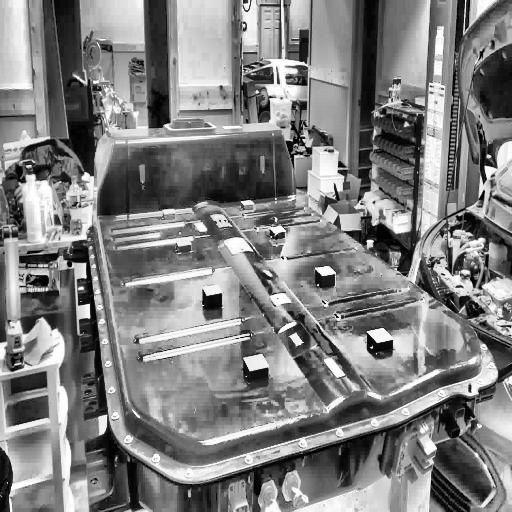b_casing: (85, 115, 501, 484)
nut: (369, 415, 380, 431), (183, 467, 195, 480), (151, 450, 161, 465), (298, 437, 308, 452), (110, 409, 120, 423), (107, 383, 117, 396), (244, 453, 254, 466), (401, 406, 411, 419), (124, 434, 134, 446), (476, 375, 486, 387), (438, 387, 446, 401), (481, 340, 489, 354), (488, 359, 497, 371), (336, 426, 344, 438), (104, 358, 112, 368), (95, 287, 102, 298), (97, 302, 103, 314), (98, 317, 106, 326), (101, 338, 109, 347), (93, 274, 99, 284), (90, 254, 95, 262), (92, 263, 97, 271), (87, 226, 91, 235), (89, 245, 94, 252), (88, 236, 92, 243)
